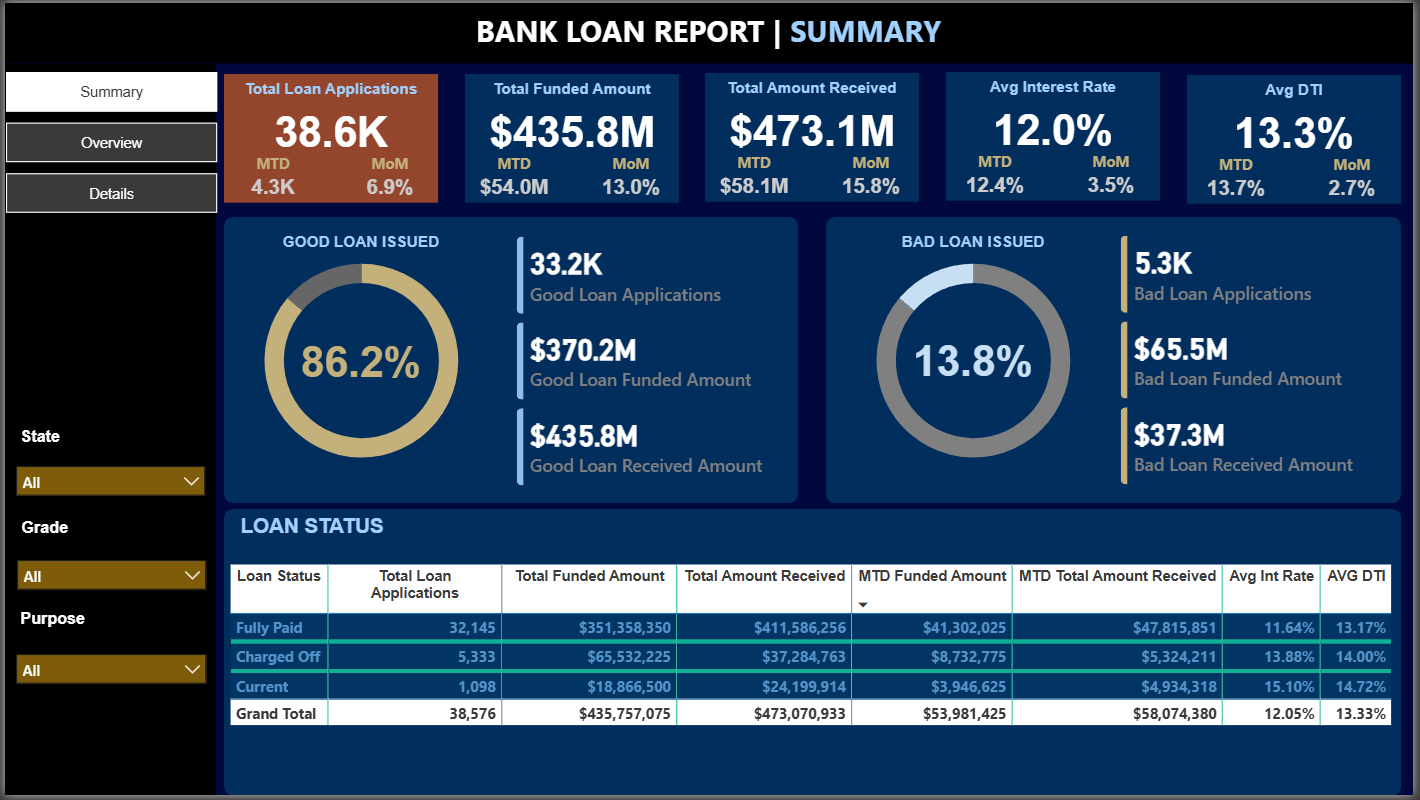

What the dashboard file says about the page in this screenshot:
{"tool":"powerbi","page":{"name":"Summary","canvas":[1280,720],"ordinal":0},"visuals":[{"type":"shape","box":[0,0,1280,55],"z":0},{"type":"shape","box":[0,55.1,192,664.9],"z":1000},{"type":"textbox","box":[365.3,1.8,548.4,50.7],"z":2000},{"type":"shape","box":[856,63,194.7,117.3],"z":3000,"group":"g5"},{"type":"shape","box":[637,63.6,194.7,117.3],"z":3000,"group":"g3"},{"type":"group","id":"g1","title":"Group 1","box":[198.9,64.5,194.8,117.3],"z":3000},{"type":"shape","box":[199.1,64.5,194.7,117.3],"z":3000,"group":"g1"},{"type":"shape","box":[418.2,64.9,194.7,117.3],"z":3000,"group":"g2"},{"type":"shape","box":[1074.9,65.8,194.7,117.3],"z":3000,"group":"g6"},{"type":"group","id":"g2","title":"Group 1","box":[418,64.9,194.7,117.3],"z":4000},{"type":"card","fields":{"Values":["Measures Table.Avg Interest Rate"]},"box":[856,93.2,194.7,42.7],"z":4000,"group":"g5"},{"type":"card","fields":{"Values":["Measures Table.Total Amount Received"]},"box":[637,93.8,194.7,42.7],"z":4000,"group":"g3"},{"type":"card","fields":{"Values":["Measures Table.Total Loan Applications"]},"box":[199.1,94.7,194.7,42.7],"z":4000,"group":"g1"},{"type":"card","fields":{"Values":["Measures Table.Total Funded Amount"]},"box":[418.2,95.1,194.7,42.7],"z":4000,"group":"g2"},{"type":"card","fields":{"Values":["Loan Measures.AVG DTI"]},"box":[1074.9,96,194.7,42.7],"z":4000,"group":"g6"},{"type":"textbox","box":[856,63,194.7,30.2],"z":5000,"group":"g5"},{"type":"group","id":"g3","title":"Group 1","box":[636.8,63.6,194.9,117.5],"z":5000},{"type":"textbox","box":[637,63.6,194.7,30.2],"z":5000,"group":"g3"},{"type":"textbox","box":[199.1,64.5,194.7,30.2],"z":5000,"group":"g1"},{"type":"textbox","box":[418.2,64.9,194.7,30.2],"z":5000,"group":"g2"},{"type":"textbox","box":[1074.9,65.8,194.7,30.2],"z":5000,"group":"g6"},{"type":"group","id":"g4","title":"Group 2","box":[855.8,63,194.8,117.5],"z":6000},{"type":"group","id":"g5","title":"Group 1","box":[856,63,194.7,117.3],"z":6000,"group":"g4"},{"type":"group","id":"g6","title":"Group 1","box":[1074.9,65.8,194.7,117.3],"z":6000,"group":"g7"},{"type":"card","title":"MTD","fields":{"Values":["Measures Table.MTD Total Amount Received"]},"box":[636.8,136.6,88.9,44.2],"z":6000,"group":"g3"},{"type":"card","title":"MTD","fields":{"Values":["Measures Table.MTD Loan Applications"]},"box":[198.9,137.5,88.9,44.2],"z":6000,"group":"g1"},{"type":"card","title":"MTD","fields":{"Values":["Measures Table.MTD Funded Amount"]},"box":[418,137.9,88.9,44.2],"z":6000,"group":"g2"},{"type":"group","id":"g7","title":"Group 2","box":[1074.7,65.8,194.8,117.5],"z":7000},{"type":"card","title":"MTD","fields":{"Values":["Measures Table.MTD Avg Int Rate"]},"box":[855.8,135.6,88.8,44.9],"z":7000,"group":"g4"},{"type":"card","title":"MoM","fields":{"Values":["Measures Table.Mom Avg Int Rate"]},"box":[961.8,135.9,88.9,44.4],"z":7000,"group":"g5"},{"type":"card","title":"MoM","fields":{"Values":["Measures Table.Mom Total Total Amount Received"]},"box":[742.7,136.5,88.9,44.4],"z":7000,"group":"g3"},{"type":"card","title":"MoM","fields":{"Values":["Measures Table.Mom Loan Application"]},"box":[304.8,137.4,88.9,44.4],"z":7000,"group":"g1"},{"type":"card","title":"MoM","fields":{"Values":["Measures Table.Mom Total Funded Amount"]},"box":[523.9,137.8,88.9,44.4],"z":7000,"group":"g2"},{"type":"card","title":"MTD","fields":{"Values":["Loan Measures.MTD Avg DTI"]},"box":[1074.7,138.4,88.8,44.9],"z":7000,"group":"g7"},{"type":"card","title":"MoM","fields":{"Values":["Loan Measures.Mom Avg DTI"]},"box":[1180.7,138.7,88.9,44.4],"z":7000,"group":"g6"},{"type":"shape","box":[199.1,194.7,522,260],"z":8000},{"type":"shape","box":[746.7,194.7,522.7,260.4],"z":9000},{"type":"donutChart","fields":{"Category":["bank_loan_data.Good v Bad Loan"],"Y":["Loan Measures.Total Loan Applications"]},"box":[199.1,209.8,249.8,230.2],"z":10000},{"type":"card","fields":{"Values":["Loan Measures.Good Loan %"]},"box":[226.7,304,194.7,42.7],"z":11000},{"type":"textbox","box":[226.7,203.6,194.7,30.2],"z":12000},{"type":"cardVisual","fields":{"Data":["Loan Measures.Good Loan Applications","Loan Measures.Good Loan Funded Amount","Loan Measures.Good Loan Received Amount"]},"box":[448.1,195.1,271.5,260.4],"z":13000},{"type":"textbox","box":[783.1,203.4,195.1,30.4],"z":14000},{"type":"donutChart","fields":{"Category":["bank_loan_data.Good v Bad Loan"],"Y":["Loan Measures.Total Loan Applications"]},"box":[755.6,209.8,249.8,230.2],"z":15000},{"type":"card","fields":{"Values":["Loan Measures.Bad Loan %"]},"box":[783.1,303.1,194.7,42.7],"z":16000},{"type":"cardVisual","fields":{"Data":["Loan Measures.Bad Loan Applications","Loan Measures.Bad Loan Funded Amount","Loan Measures.Bad Loan Received Amount"]},"box":[997.3,194.7,272,260.4],"z":17000},{"type":"shape","box":[199.1,459.6,1070.2,260.4],"z":18000},{"type":"tableEx","fields":{"Values":["bank_loan_data.loan_status","Loan Measures.Total Loan Applications","Loan Measures.Total Funded Amount","Loan Measures.Total Amount Received","Loan Measures.MTD Funded Amount","Loan Measures.MTD Total Amount Received","Loan Measures.Avg Int Rate","Loan Measures.AVG DTI"]},"box":[199.1,505.8,1070.2,214.2],"z":19000},{"type":"textbox","box":[208.9,459.6,263.1,46.2],"z":20000},{"type":"slicer","fields":{"Values":["bank_loan_data.address_state"]},"box":[0,410.7,192,44.4],"z":21000},{"type":"textbox","box":[8.9,381.3,87.1,35.6],"z":22000},{"type":"slicer","fields":{"Values":["bank_loan_data.grade"]},"box":[0.9,496.4,192,44.4],"z":23000},{"type":"textbox","box":[9.8,464,87.1,35.6],"z":24000},{"type":"slicer","fields":{"Values":["bank_loan_data.purpose"]},"box":[0,582.2,192.9,44.4],"z":25000},{"type":"textbox","box":[8.9,546.7,88,35.6],"z":26000},{"type":"pageNavigator","box":[0.9,63.1,192,130.7],"z":26001}]}

Visuals, with their boxes in screenshot pixels (x1, y1, x2, y2), scaled from the page's 1280x720 canvas onto the 1420x800 screenshot:
shape: {"left": 0, "top": 0, "right": 1419, "bottom": 61}
shape: {"left": 0, "top": 61, "right": 213, "bottom": 799}
textbox: {"left": 405, "top": 2, "right": 1014, "bottom": 58}
shape: {"left": 950, "top": 70, "right": 1166, "bottom": 200}
shape: {"left": 707, "top": 71, "right": 923, "bottom": 201}
"Group 1" group: {"left": 221, "top": 72, "right": 437, "bottom": 202}
shape: {"left": 221, "top": 72, "right": 437, "bottom": 202}
shape: {"left": 464, "top": 72, "right": 680, "bottom": 202}
shape: {"left": 1192, "top": 73, "right": 1408, "bottom": 203}
"Group 1" group: {"left": 464, "top": 72, "right": 680, "bottom": 202}
card - Measures Table.Avg Interest Rate: {"left": 950, "top": 104, "right": 1166, "bottom": 151}
card - Measures Table.Total Amount Received: {"left": 707, "top": 104, "right": 923, "bottom": 152}
card - Measures Table.Total Loan Applications: {"left": 221, "top": 105, "right": 437, "bottom": 153}
card - Measures Table.Total Funded Amount: {"left": 464, "top": 106, "right": 680, "bottom": 153}
card - Loan Measures.AVG DTI: {"left": 1192, "top": 107, "right": 1408, "bottom": 154}
textbox: {"left": 950, "top": 70, "right": 1166, "bottom": 104}
"Group 1" group: {"left": 706, "top": 71, "right": 923, "bottom": 201}
textbox: {"left": 707, "top": 71, "right": 923, "bottom": 104}
textbox: {"left": 221, "top": 72, "right": 437, "bottom": 105}
textbox: {"left": 464, "top": 72, "right": 680, "bottom": 106}
textbox: {"left": 1192, "top": 73, "right": 1408, "bottom": 107}
"Group 2" group: {"left": 949, "top": 70, "right": 1166, "bottom": 201}
"Group 1" group: {"left": 950, "top": 70, "right": 1166, "bottom": 200}
"Group 1" group: {"left": 1192, "top": 73, "right": 1408, "bottom": 203}
"MTD" card: {"left": 706, "top": 152, "right": 805, "bottom": 201}
"MTD" card: {"left": 221, "top": 153, "right": 319, "bottom": 202}
"MTD" card: {"left": 464, "top": 153, "right": 562, "bottom": 202}
"Group 2" group: {"left": 1192, "top": 73, "right": 1408, "bottom": 204}
"MTD" card: {"left": 949, "top": 151, "right": 1048, "bottom": 201}
"MoM" card: {"left": 1067, "top": 151, "right": 1166, "bottom": 200}
"MoM" card: {"left": 824, "top": 152, "right": 923, "bottom": 201}
"MoM" card: {"left": 338, "top": 153, "right": 437, "bottom": 202}
"MoM" card: {"left": 581, "top": 153, "right": 680, "bottom": 202}
"MTD" card: {"left": 1192, "top": 154, "right": 1291, "bottom": 204}
"MoM" card: {"left": 1310, "top": 154, "right": 1408, "bottom": 203}
shape: {"left": 221, "top": 216, "right": 800, "bottom": 505}
shape: {"left": 828, "top": 216, "right": 1408, "bottom": 506}
donutChart - bank_loan_data.Good v Bad Loan x Loan Measures.Total Loan Applications: {"left": 221, "top": 233, "right": 498, "bottom": 489}
card - Loan Measures.Good Loan %: {"left": 251, "top": 338, "right": 467, "bottom": 385}
textbox: {"left": 251, "top": 226, "right": 467, "bottom": 260}
cardVisual - Loan Measures.Good Loan Applications x Loan Measures.Good Loan Funded Amount: {"left": 497, "top": 217, "right": 798, "bottom": 506}
textbox: {"left": 869, "top": 226, "right": 1085, "bottom": 260}
donutChart - bank_loan_data.Good v Bad Loan x Loan Measures.Total Loan Applications: {"left": 838, "top": 233, "right": 1115, "bottom": 489}
card - Loan Measures.Bad Loan %: {"left": 869, "top": 337, "right": 1085, "bottom": 384}
cardVisual - Loan Measures.Bad Loan Applications x Loan Measures.Bad Loan Funded Amount: {"left": 1106, "top": 216, "right": 1408, "bottom": 506}
shape: {"left": 221, "top": 511, "right": 1408, "bottom": 799}
tableEx - bank_loan_data.loan_status x Loan Measures.Total Loan Applications: {"left": 221, "top": 562, "right": 1408, "bottom": 799}
textbox: {"left": 232, "top": 511, "right": 524, "bottom": 562}
slicer - bank_loan_data.address_state: {"left": 0, "top": 456, "right": 213, "bottom": 506}
textbox: {"left": 10, "top": 424, "right": 106, "bottom": 463}
slicer - bank_loan_data.grade: {"left": 1, "top": 552, "right": 214, "bottom": 601}
textbox: {"left": 11, "top": 516, "right": 107, "bottom": 555}
slicer - bank_loan_data.purpose: {"left": 0, "top": 647, "right": 214, "bottom": 696}
textbox: {"left": 10, "top": 607, "right": 107, "bottom": 647}
pageNavigator: {"left": 1, "top": 70, "right": 214, "bottom": 215}
